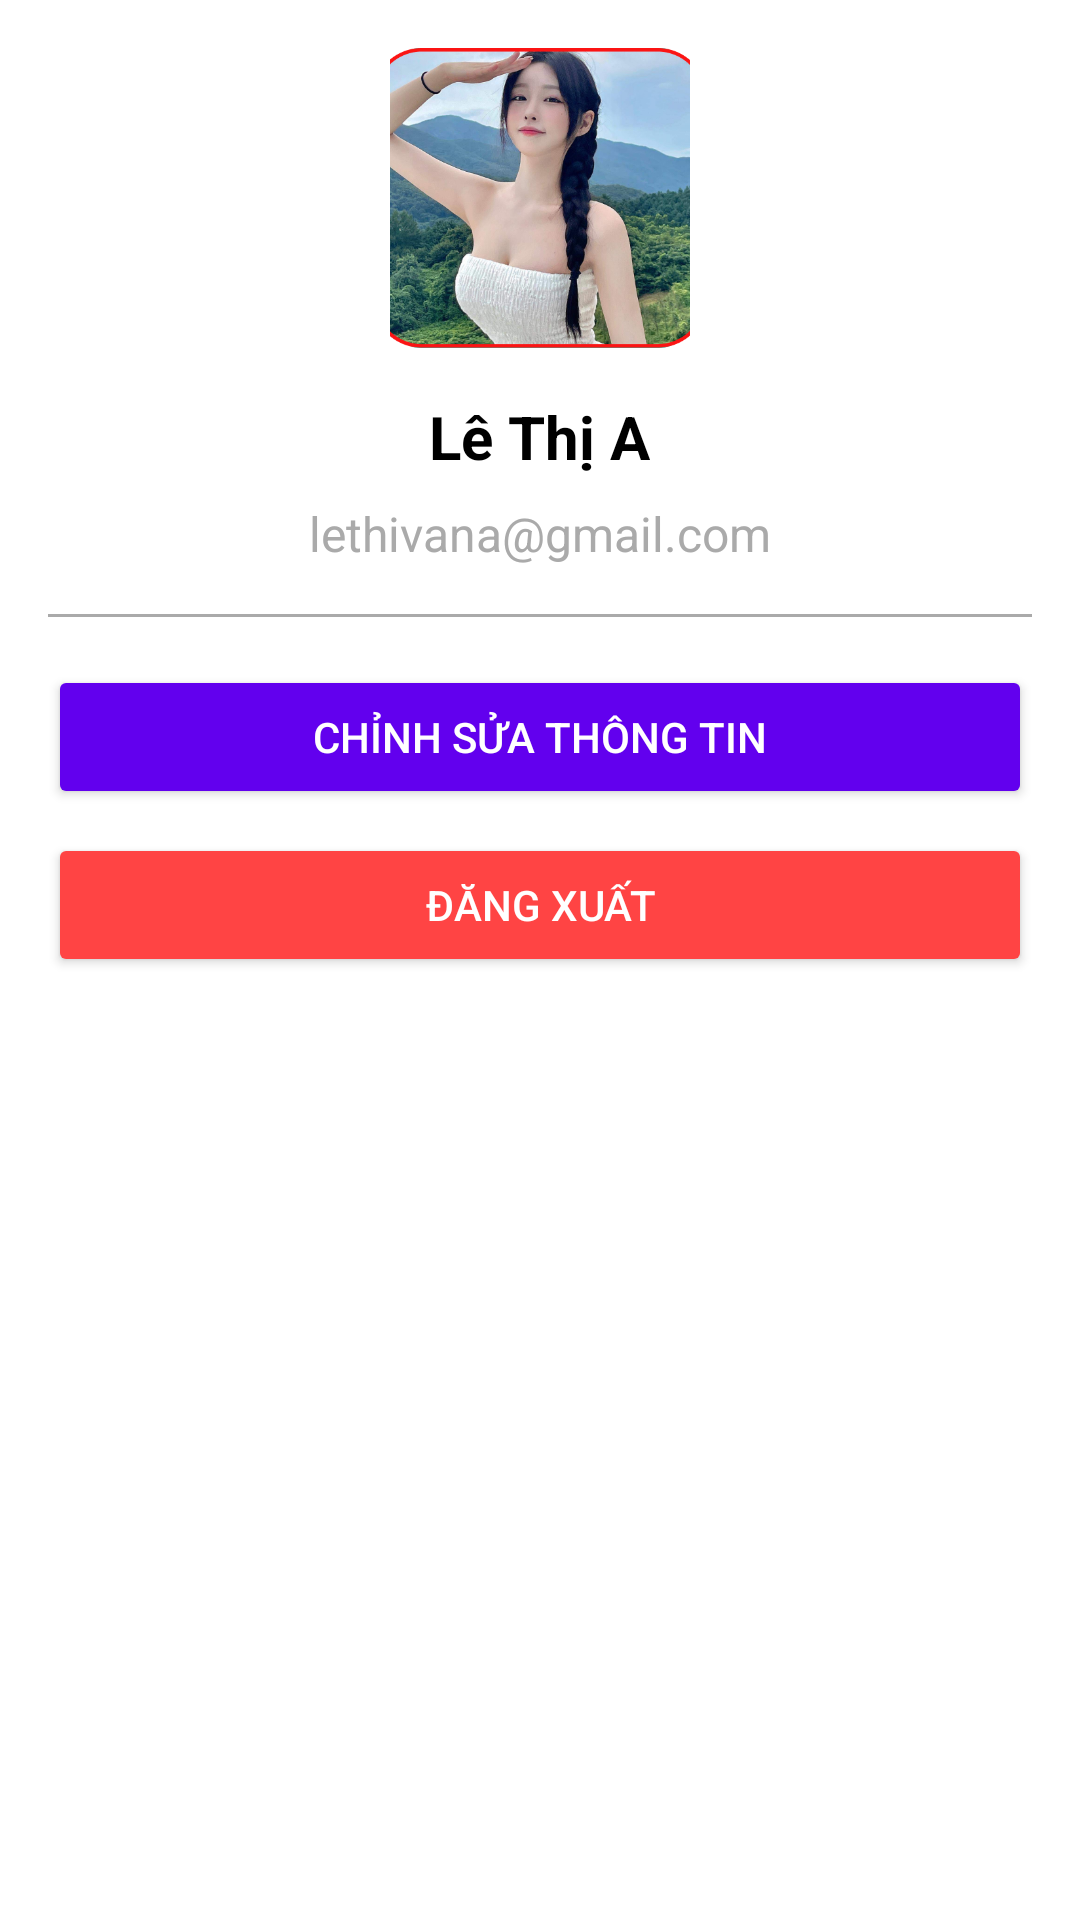

Locate icon controls on the screen. Image size 1080×1920, boxes as (x1, y1, x2, y2).
gaixinh: (390, 48, 690, 348)
